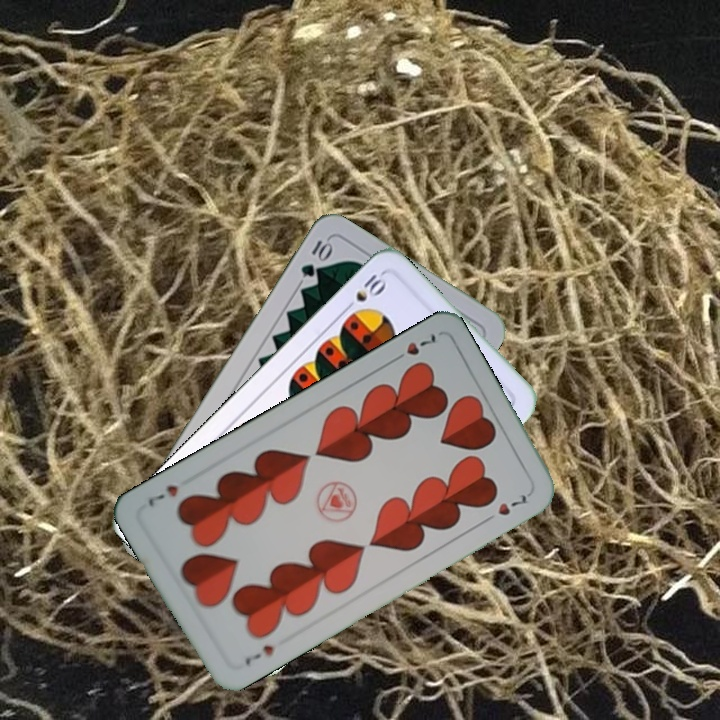G10: (296, 235, 334, 281)
H7: (387, 328, 439, 366), (240, 641, 277, 668)
S10: (339, 268, 390, 315)
